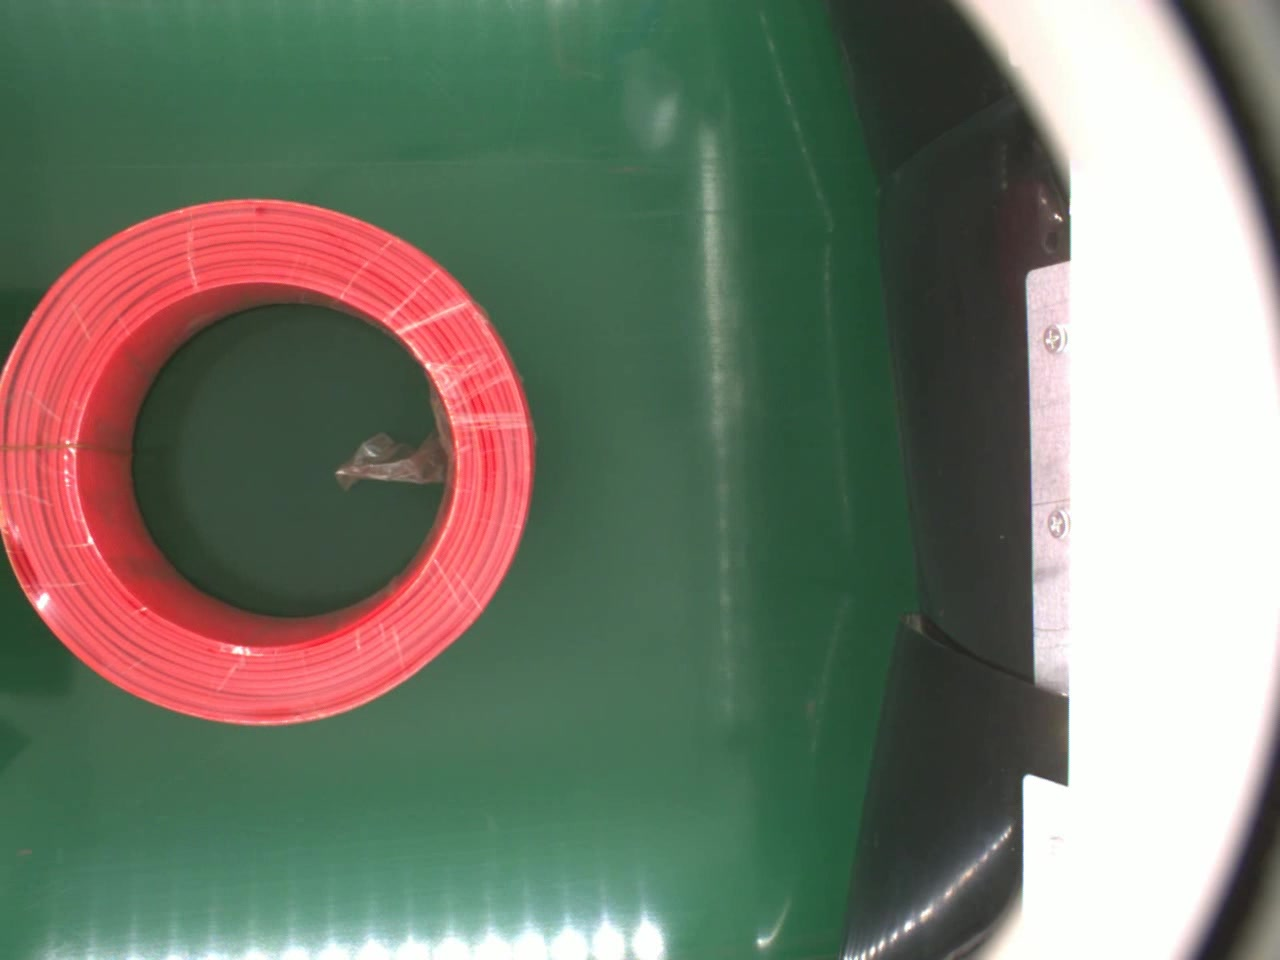red: (0, 198, 537, 723)
